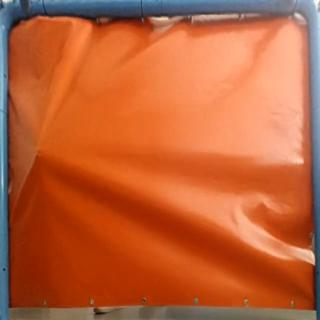Hit-hRxx: (32, 150, 43, 160)
